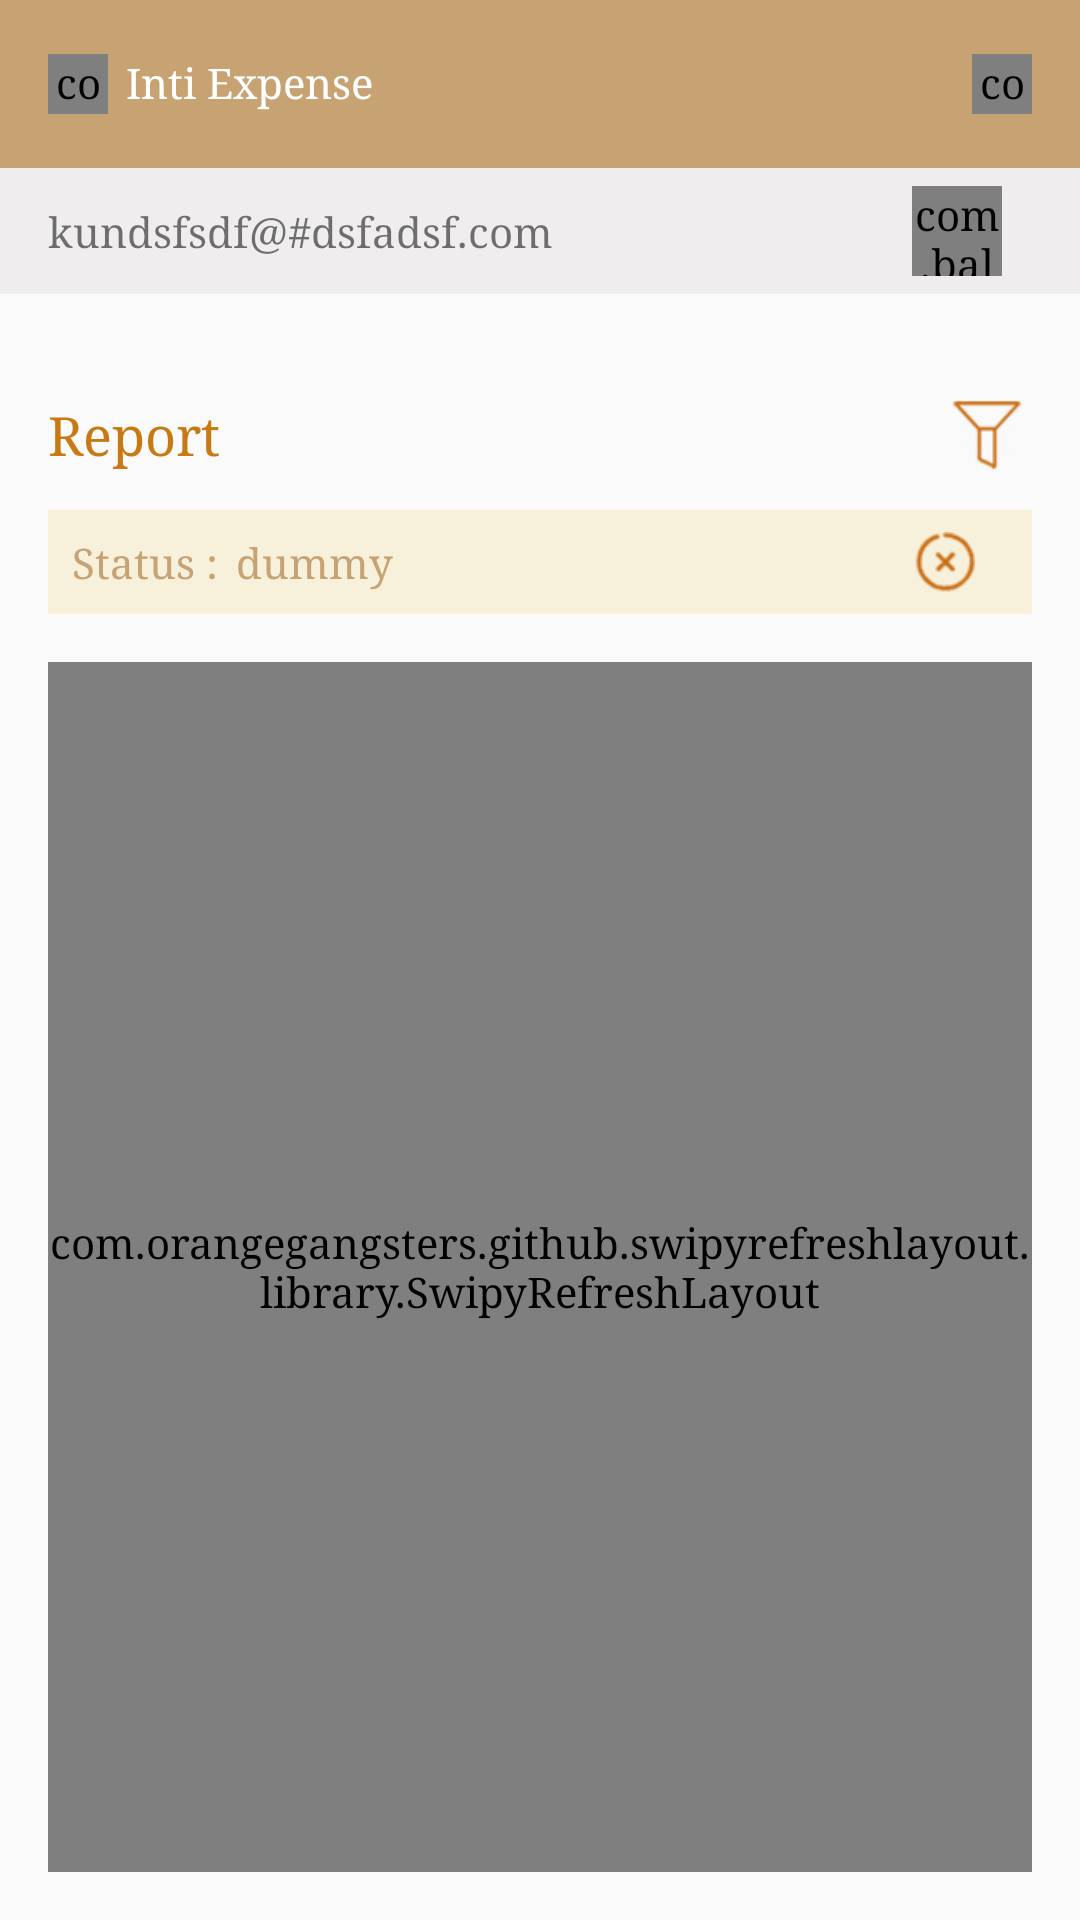

Icon click points for this 1080px x 1920px phone screenshot, format (x,y):
close: (945,562)
filter: (987,435)
